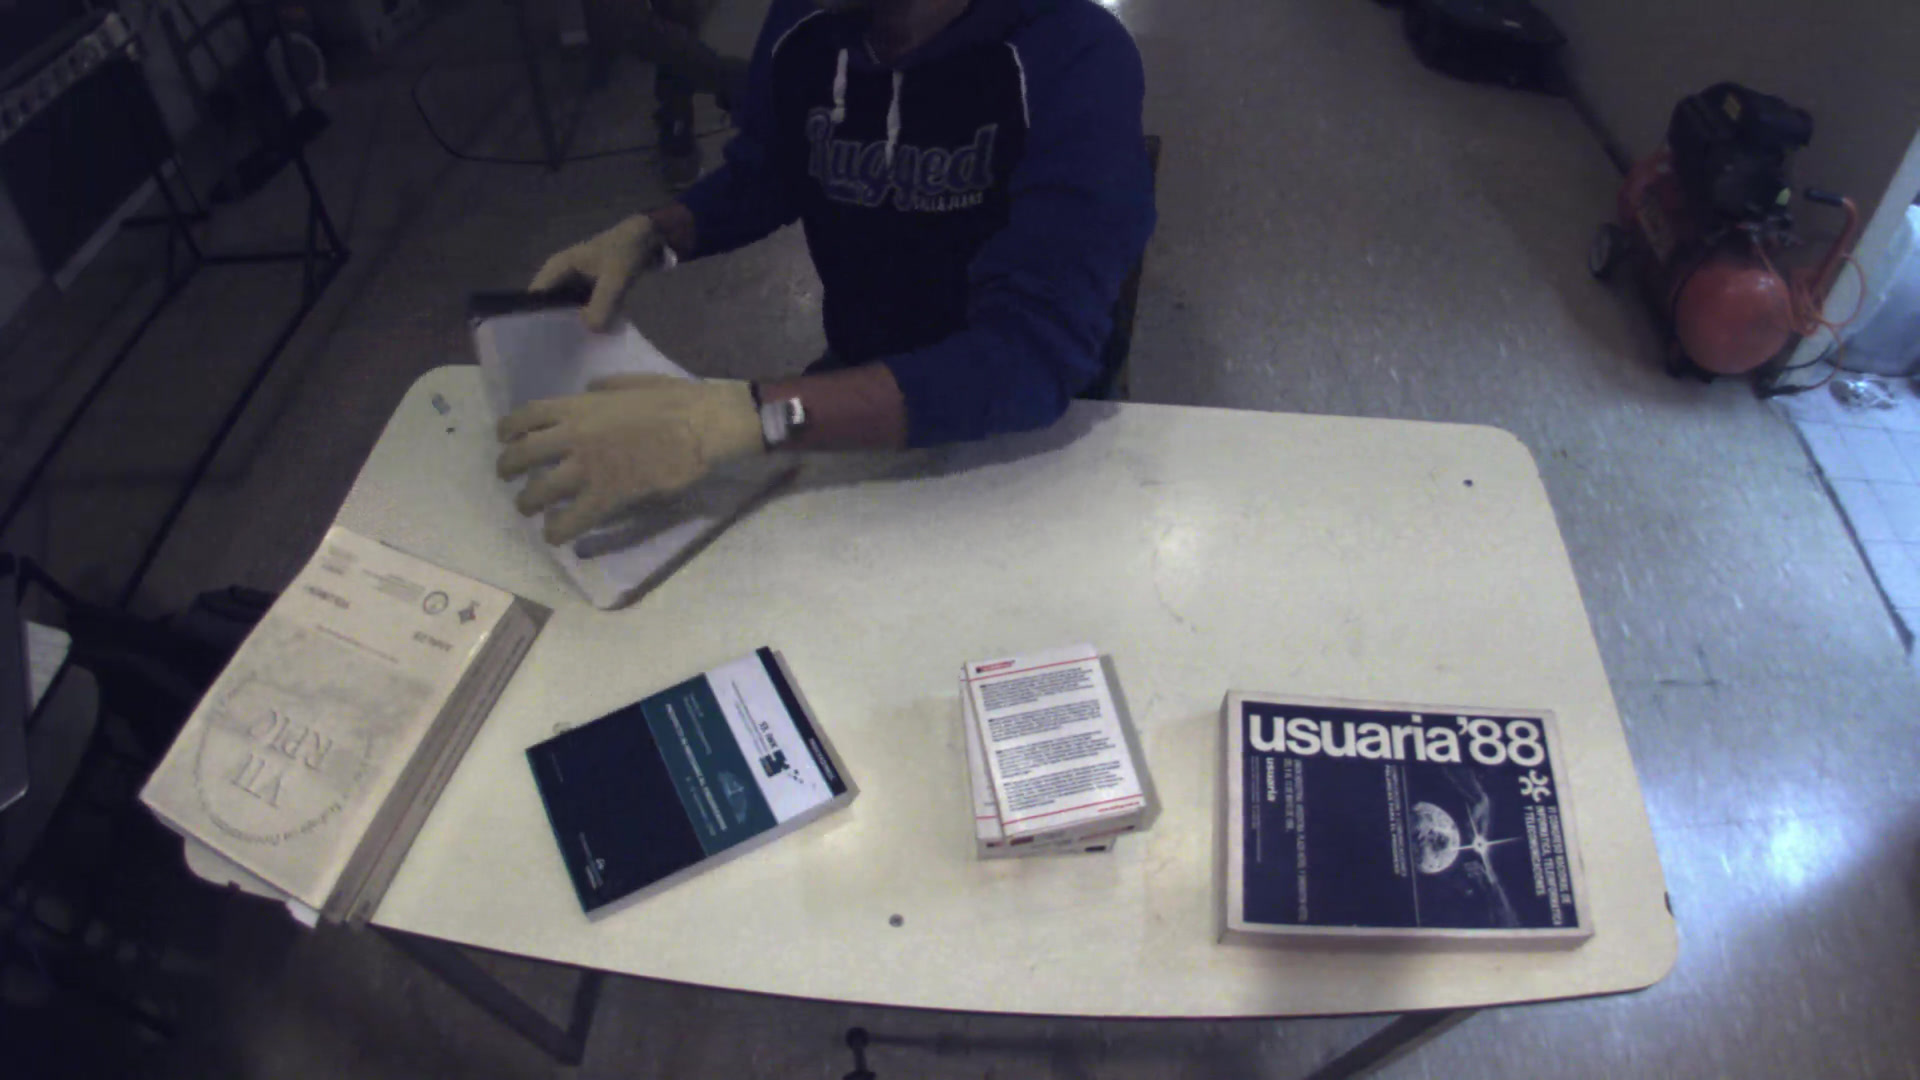hand: (476, 353, 758, 545), (516, 199, 684, 335)
